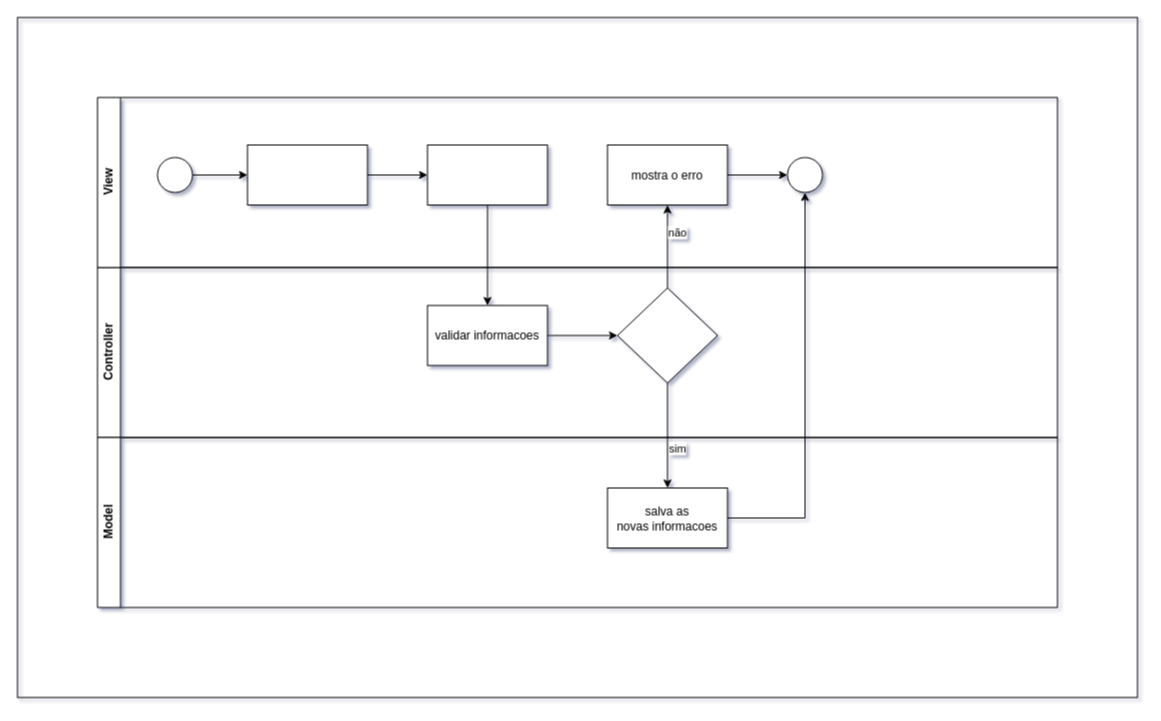
Image size: 1161x721. Some labels were removed from this diagram. The shapes that lost their labels are listed below. From the top down, each one's centre as x and y in pixels, then its label:
the point at 307,174: permite agora editar, criar e excluir as informaçoes da atividade
the point at 487,174: confirma os novos dados fornecidos
the point at 667,335: informaçoes válidas
